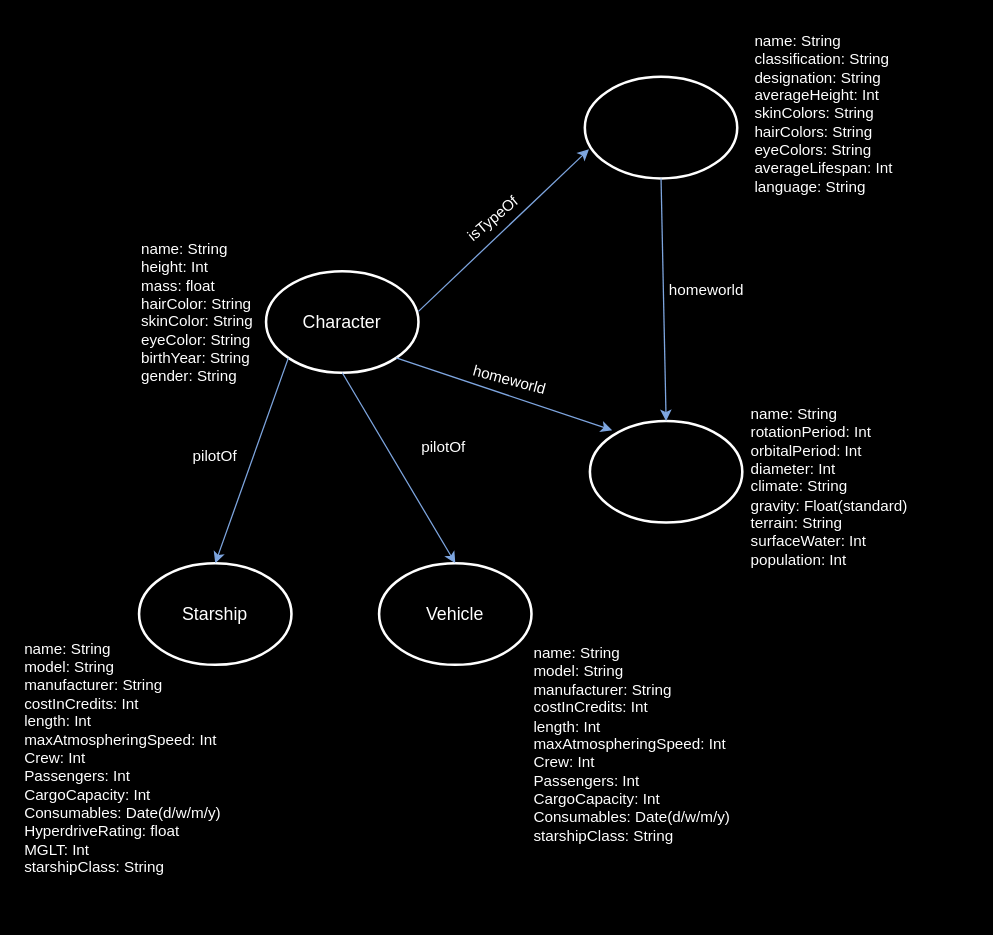
This 993x935 diagram has some shape labels left out. The shapes that lost their labels are listed below. From the top down, each one's centre as x and y in pixels, then its label:
(660,127): Specie
(665,471): Planet
